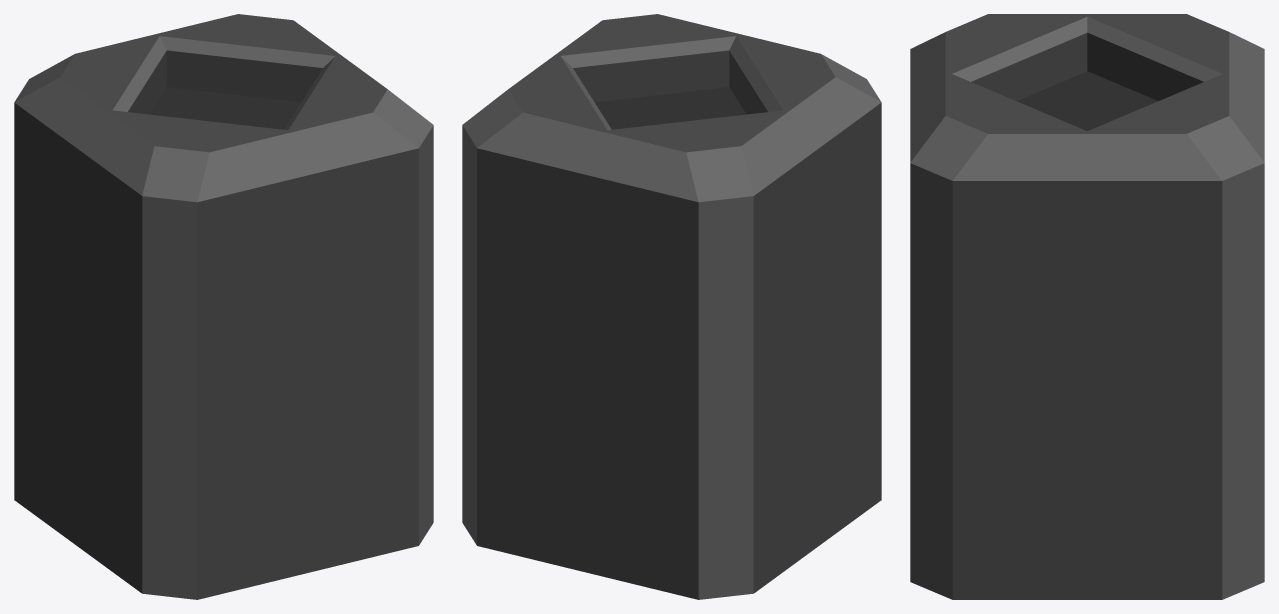
The model's file is Stone_Path_EdgePiece2.fbx.
3 renders of one model, left to right at view 1: azimuth 30°, elevation 25°; view 2: azimuth 150°, elevation 25°; view 3: azimuth 270°, elevation 25°, orthographic. The views are drawn at different scales.
Parts seen in each view (by area): view 1: Stone_Path_EdgePiece2; view 2: Stone_Path_EdgePiece2; view 3: Stone_Path_EdgePiece2.
Boxes of the visible parts, bbox=[...] form: Stone_Path_EdgePiece2: bbox=[14, 14, 433, 599]; Stone_Path_EdgePiece2: bbox=[462, 14, 881, 599]; Stone_Path_EdgePiece2: bbox=[910, 14, 1264, 599].
Bounding box in the file's own units: 18.93 × 26.58 × 18.93.
